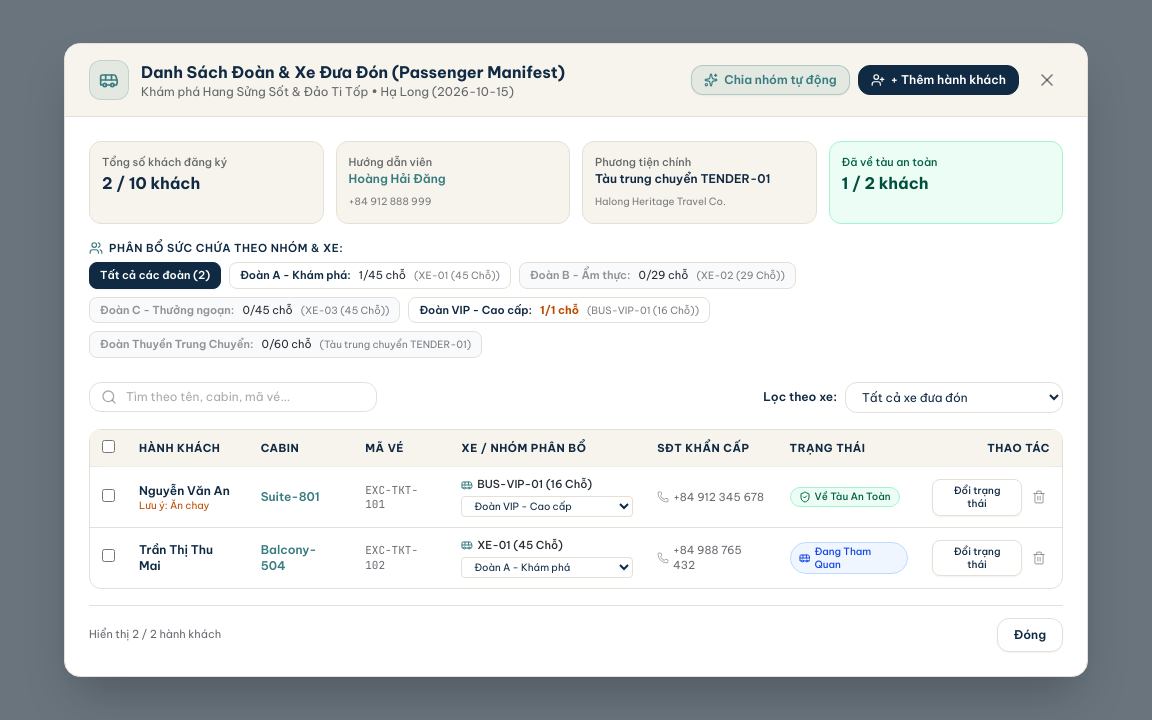
Test: ExcursionGroupAssignment Tests (KAN-181) › Test Group Capacity and Assignment Errors (KAN-184) › rejects inline group assignment and displays error notification when target group is at max capacity
This screenshot has width=1152, height=720.
# Try to assign Tran Thi Thu Mai to GRP-VIP which already has 1/1 seat filled
Select "Đoàn VIP - Cao cấp" in the dropdown named "Đổi đoàn cho Trần Thị Thu Mai" at (547, 567), box [461,557,633,578]
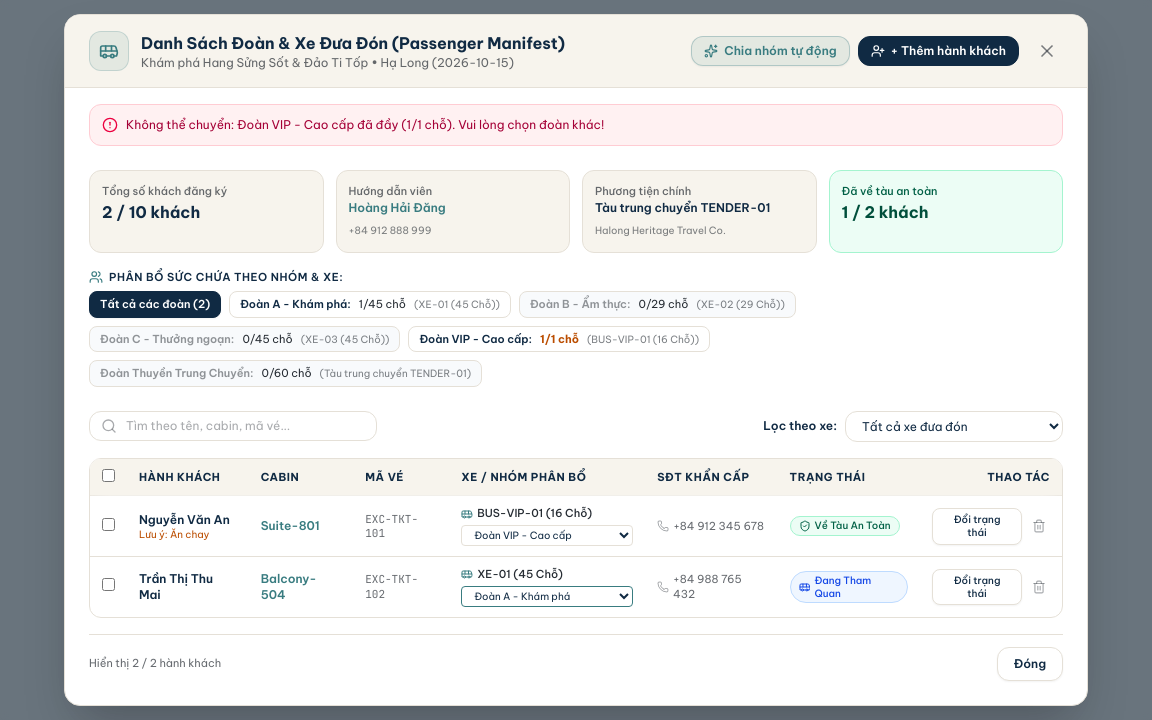
expect the text "Không thể chuyển: Đoàn VIP - Cao cấp đã đầy (1/1 chỗ)" is shown: met, box [126,117,604,132]
